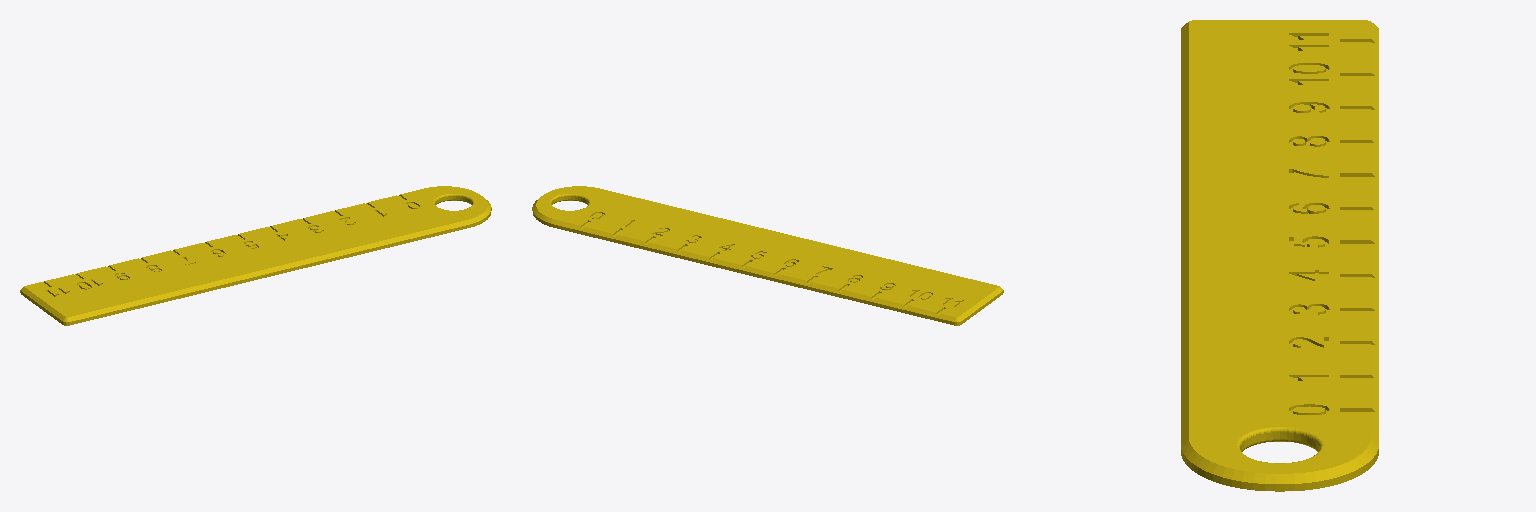
robot.urdf — cb_ruler:
<?xml version="1.0"?>
<!-- ContactBench ruler. Generated by FoundationTouch tools/contactbench/make_contactbench_assets.py -->
<robot name="cb_ruler">
  <material name="c"><color rgba="0.85 0.75 0.10 1.0"/></material>
  <link name="object">
    <visual><origin xyz="0 0 0" rpy="0 0 0"/><geometry><mesh filename="ruler.obj" scale="1 1 1"/></geometry><material name="c"/></visual>
    <collision><origin xyz="0 0 0" rpy="0 0 0"/><geometry><mesh filename="coll_00.obj" scale="1 1 1"/></geometry></collision>
    <collision><origin xyz="0 0 0" rpy="0 0 0"/><geometry><mesh filename="coll_01.obj" scale="1 1 1"/></geometry></collision>
    <collision><origin xyz="0 0 0" rpy="0 0 0"/><geometry><mesh filename="coll_02.obj" scale="1 1 1"/></geometry></collision>
    <collision><origin xyz="0 0 0" rpy="0 0 0"/><geometry><mesh filename="coll_03.obj" scale="1 1 1"/></geometry></collision>
    <collision><origin xyz="0 0 0" rpy="0 0 0"/><geometry><mesh filename="coll_04.obj" scale="1 1 1"/></geometry></collision>
    <inertial><mass value="0.007333"/><origin xyz="0 0 0" rpy="0 0 0"/><inertia ixx="3.717042e-07" ixy="-2.546746e-09" ixz="-3.423460e-10" iyy="1.061572e-05" iyz="3.521096e-10" izz="1.098265e-05"/></inertial>
  </link>
</robot>

--- Render facts (derived) ---
The picture shows the robot from 3 angles, left to right: view 1: azimuth 30°, elevation 25°; view 2: azimuth 150°, elevation 25°; view 3: azimuth 270°, elevation 25°; orthographic projection.
Model cb_ruler with 1 links and 0 joints (none), rooted at object, posed all joints at 0.
Visible links, largest first — view 1: object; view 2: object; view 3: object.
Boxes of the visible links, x1,y1,x2,y2 form: object: (20,186,491,325); object: (532,186,1003,325); object: (1181,20,1378,491).
Size in the robot's own frame: 0.137 by 0.025 by 0.002 metres.
Meshes: 1 distinct files referenced, 1 mesh visuals loaded (1 OBJ).
